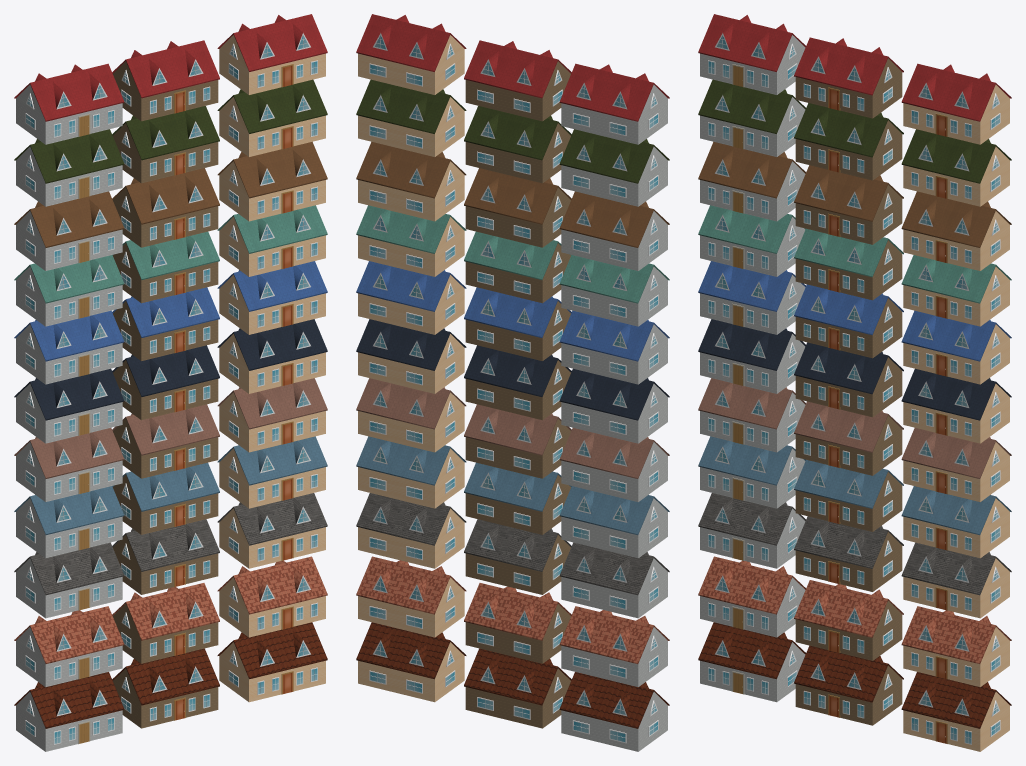
File: ModularHouses_H_V2.fbx
The picture shows the model from 3 angles, left to right: view 1: azimuth 30°, elevation 25°; view 2: azimuth 150°, elevation 25°; view 3: azimuth 330°, elevation 25°; orthographic projection.
Visible parts, largest first — view 1: H_House_02_V1_1, H_House_02_V3_1, H_House_02_V1_10, H_House_02_V3_10, H_House_02_V1_11, H_House_02_V3_11, H_House_02_V3_3, H_House_02_V1_3, H_House_02_V2_1, H_House_02_V2_10, H_House_02_V1_2, H_House_02_V3_2 (+21 smaller); view 2: H_House_02_V1_1, H_House_02_V3_1, H_House_02_V3_10, H_House_02_V1_10, H_House_02_V3_11, H_House_02_V1_11, H_House_02_V3_3, H_House_02_V1_3, H_House_02_V2_1, H_House_02_V2_10, H_House_02_V1_2, H_House_02_V3_2 (+21 smaller); view 3: H_House_02_V2_1, H_House_02_V3_1, H_House_02_V2_10, H_House_02_V3_10, H_House_02_V2_11, H_House_02_V3_11, H_House_02_V2_3, H_House_02_V3_3, H_House_02_V1_1, H_House_02_V1_10, H_House_02_V2_2, H_House_02_V3_2 (+21 smaller).
Part boxes in pixels (x1,y1,x2,y2): H_House_02_V1_1: (14, 63, 124, 144); H_House_02_V3_1: (217, 14, 327, 94); H_House_02_V1_10: (14, 606, 124, 687); H_House_02_V3_10: (217, 556, 327, 637); H_House_02_V1_11: (14, 672, 124, 751); H_House_02_V3_11: (217, 622, 327, 702); H_House_02_V3_3: (217, 141, 327, 221); H_House_02_V1_3: (14, 191, 124, 270); H_House_02_V2_1: (112, 40, 219, 121); H_House_02_V2_10: (112, 583, 219, 663); H_House_02_V1_2: (14, 129, 124, 206); H_House_02_V3_2: (217, 79, 327, 156); H_House_02_V1_1: (559, 63, 669, 144); H_House_02_V3_1: (356, 14, 466, 94); H_House_02_V3_10: (356, 556, 466, 637); H_House_02_V1_10: (559, 606, 669, 687); H_House_02_V3_11: (356, 622, 466, 702); H_House_02_V1_11: (559, 672, 669, 751); H_House_02_V3_3: (356, 141, 466, 221); H_House_02_V1_3: (559, 191, 669, 270); H_House_02_V2_1: (464, 40, 571, 121); H_House_02_V2_10: (464, 583, 571, 663); H_House_02_V1_2: (559, 129, 669, 206); H_House_02_V3_2: (356, 79, 466, 156); H_House_02_V2_1: (794, 37, 903, 118); H_House_02_V3_1: (901, 63, 1011, 144); H_House_02_V2_10: (794, 580, 903, 660); H_House_02_V3_10: (901, 606, 1011, 687); H_House_02_V2_11: (794, 645, 903, 725); H_House_02_V3_11: (901, 672, 1011, 751); H_House_02_V2_3: (794, 165, 903, 244); H_House_02_V3_3: (901, 191, 1011, 270); H_House_02_V1_1: (698, 14, 805, 94); H_House_02_V1_10: (698, 556, 805, 637); H_House_02_V2_2: (794, 103, 903, 180); H_House_02_V3_2: (901, 129, 1011, 206).
Bounding box in the file's own units: 198 × 441 × 38.33.
